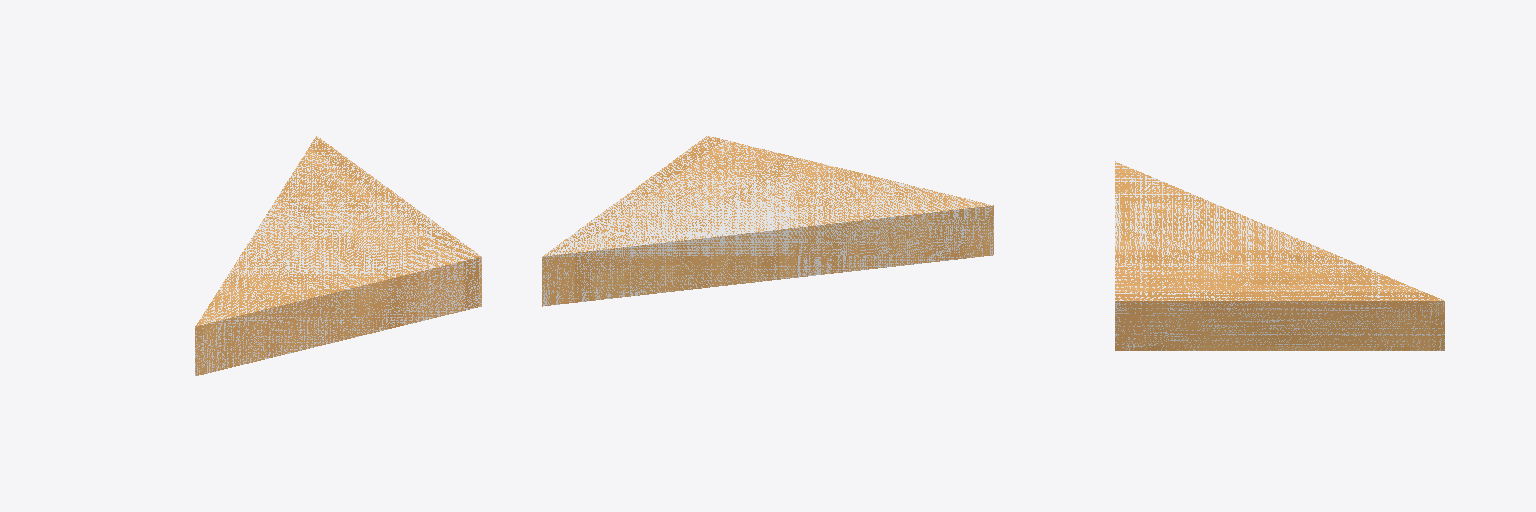
3 renders of one model, left to right at view 1: azimuth 30°, elevation 25°; view 2: azimuth 150°, elevation 25°; view 3: azimuth 270°, elevation 25°, orthographic.
Parts seen in each view (by area): view 1: B_5_1/B_5/mesh7/mesh7-geometry#mesh7-geometry; view 2: B_5_1/B_5/mesh7/mesh7-geometry#mesh7-geometry; view 3: B_5_1/B_5/mesh7/mesh7-geometry#mesh7-geometry.
Part boxes in pixels (bbox=[...]): B_5_1/B_5/mesh7/mesh7-geometry#mesh7-geometry: bbox=[195, 136, 481, 375]; B_5_1/B_5/mesh7/mesh7-geometry#mesh7-geometry: bbox=[542, 136, 993, 306]; B_5_1/B_5/mesh7/mesh7-geometry#mesh7-geometry: bbox=[1115, 161, 1444, 350].
Bounding box in the file's own units: 0.0997 × 0.0166 × 0.0997.
2 materials, 1 textured.